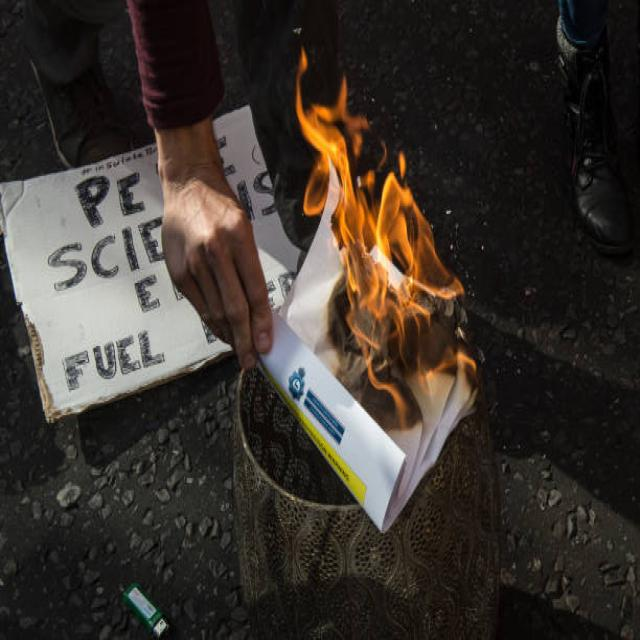fire: (329, 137, 479, 435), (296, 46, 369, 214)
